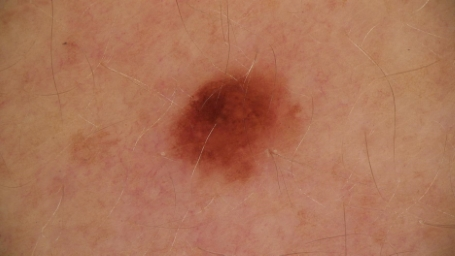nevus: (170, 76, 295, 179)
